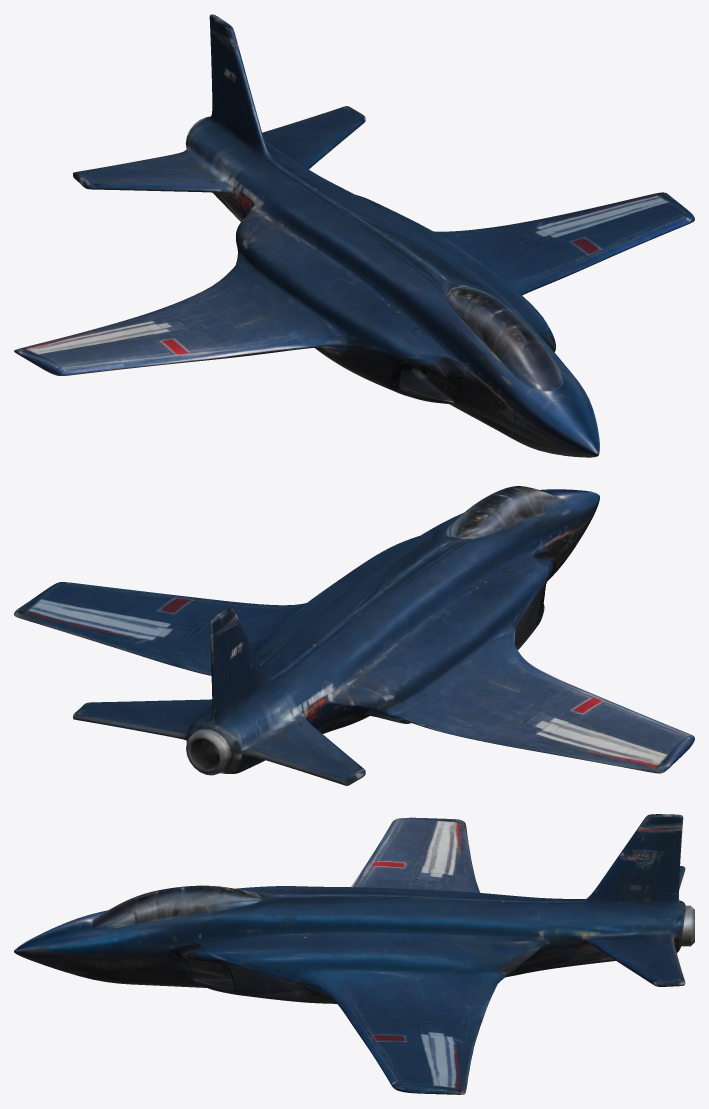
Rendered from Jet.glb.
3 renders of one model, top to bottom at view 1: azimuth 30°, elevation 25°; view 2: azimuth 150°, elevation 25°; view 3: azimuth 270°, elevation 25°, orthographic. The views are drawn at different scales.
Size of the model in its own units: 1.91 by 0.5396 by 2.
Materials: 1 (1 with a texture image).
